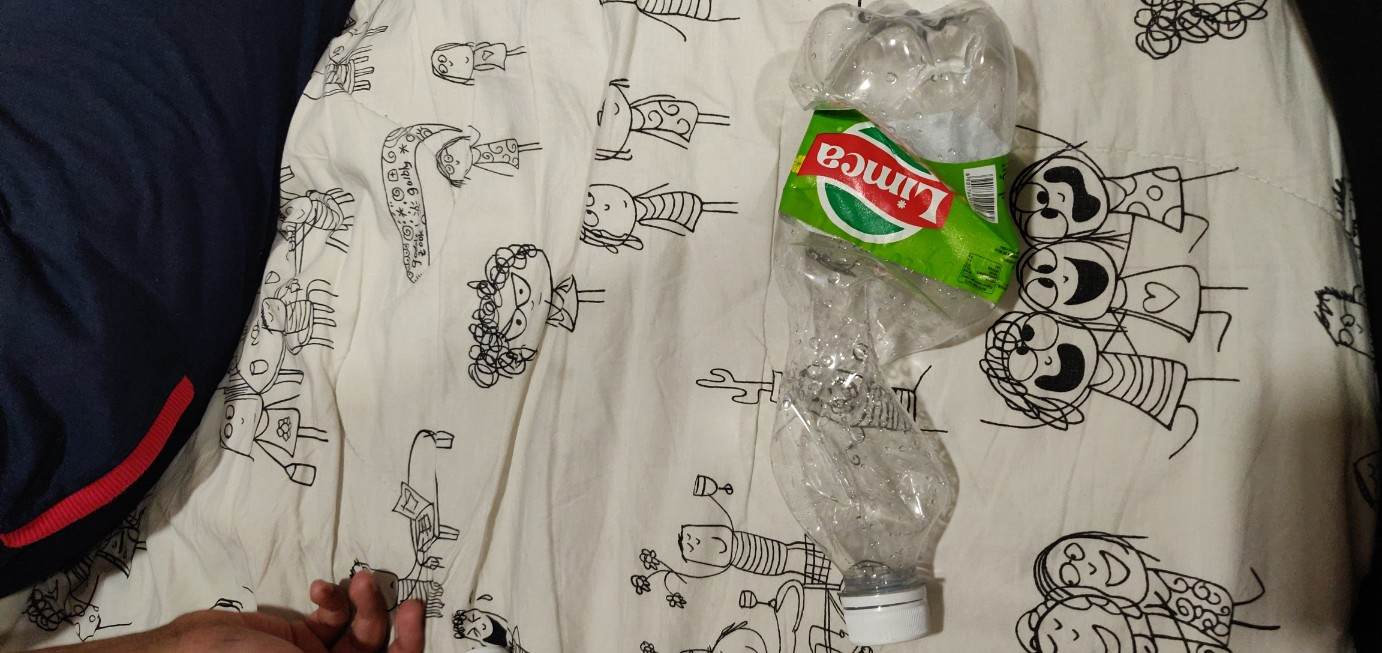Electronics: (755, 1, 1066, 649)
